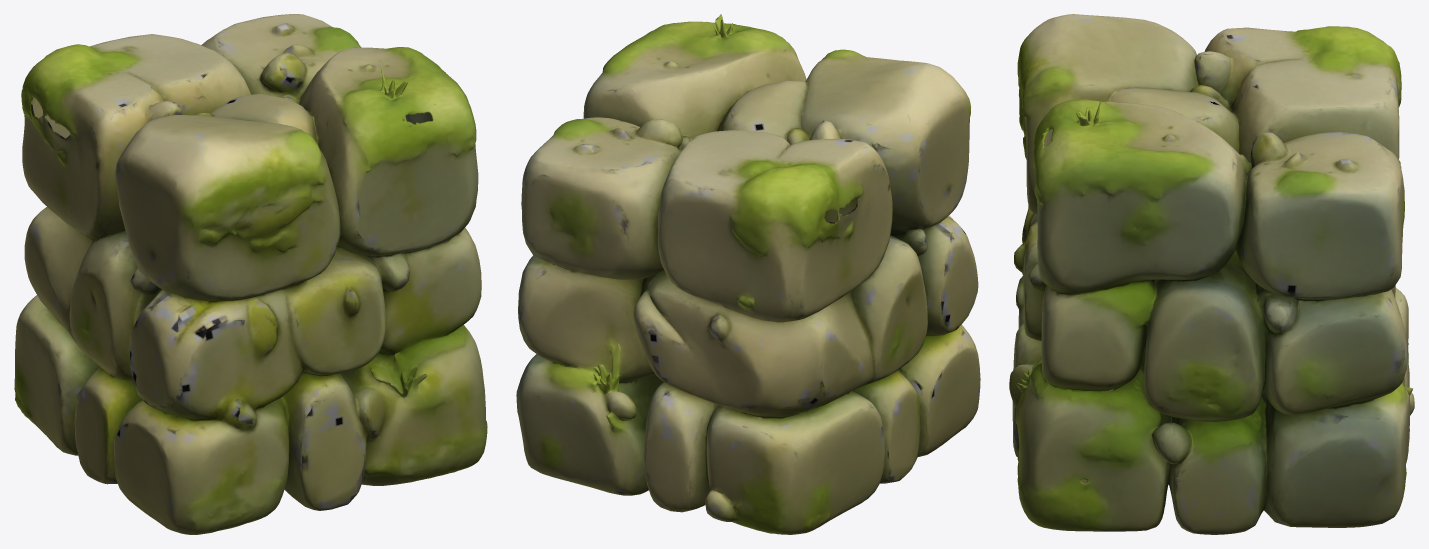
3 renders of one model, left to right at view 1: azimuth 30°, elevation 25°; view 2: azimuth 150°, elevation 25°; view 3: azimuth 270°, elevation 25°, orthographic. The views are drawn at different scales.
Parts seen in each view (by area): view 1: world; view 2: world; view 3: world.
Boxes of the visible parts, <box> form: world: <box>14,14,487,534</box>; world: <box>516,14,980,534</box>; world: <box>1009,14,1414,534</box>.
Size of the model in its own units: 0.8646 by 0.9561 by 0.876.
1 material, 1 textured.
